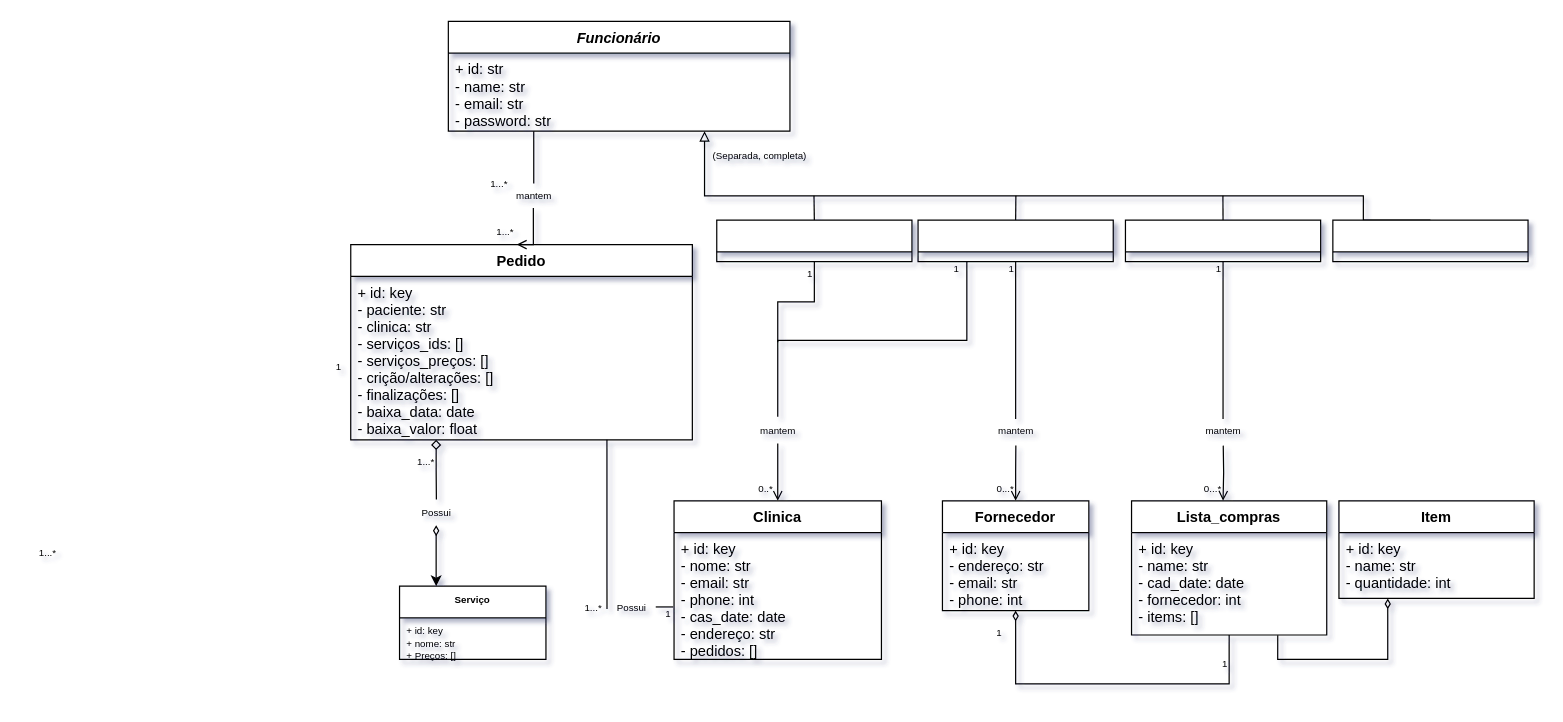
The diagram is 1563 pixels wide and 722 high, and some of its shapes have lost their labels. Here are the shapes that lost their labels. From the top down, the centre of each, then its label:
(814,240): Sócio Comercial
(1015,240): Secretária
(1222,240): Sócio Operacional
(1430,240): Protético
